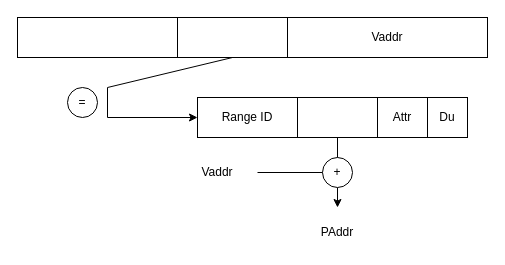
The diagram is 505 pixels wide and 265 high, and some of its shapes have lost their labels. Each missing label, with the centre of its shape:
"Capability meta-data" goes at (97,37).
"DELTA" goes at (337,117).
"Tag" goes at (232,37).
